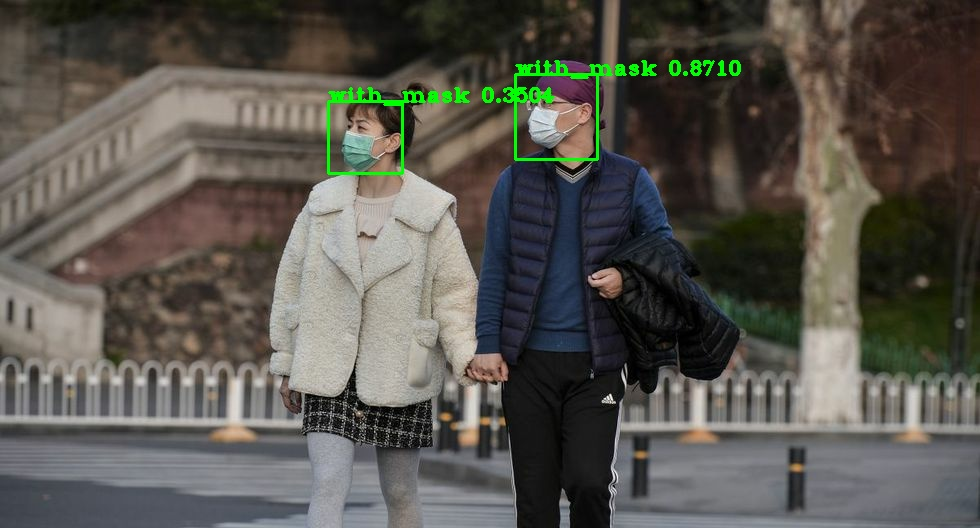with_mask: (521, 65, 606, 156), (341, 91, 411, 183)
